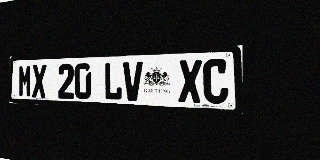0: (74, 63, 91, 99)
2: (58, 63, 74, 99)
C: (203, 59, 228, 104)
L: (104, 62, 122, 101)
M: (18, 65, 32, 97)
V: (123, 61, 143, 101)
X: (178, 59, 202, 103), (32, 64, 46, 98)
